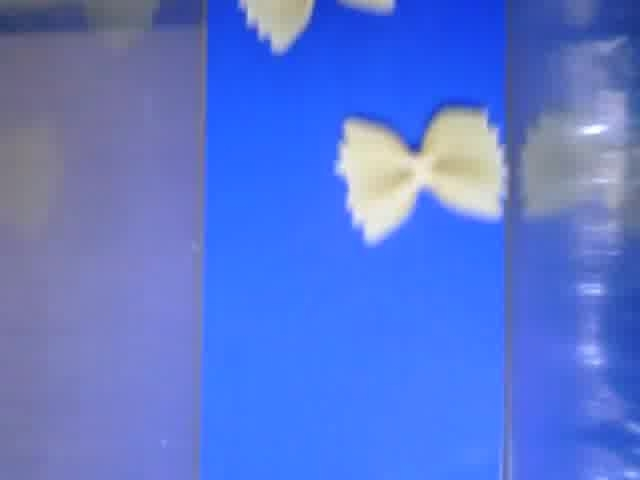farfalle: (336, 103, 508, 245), (238, 1, 395, 54)
